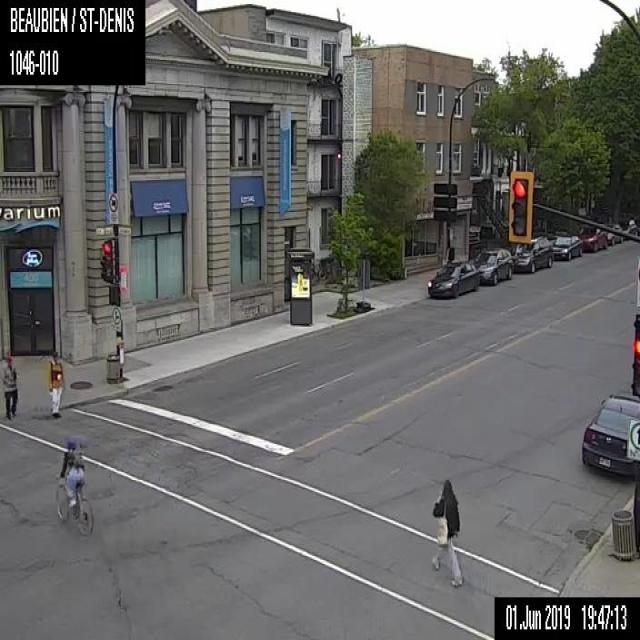cyclist: (55, 435, 93, 534)
pedestrian: (432, 479, 463, 586), (45, 352, 64, 416), (2, 356, 18, 418)
vehicle: (581, 393, 639, 480), (427, 261, 479, 298), (470, 247, 512, 285), (509, 235, 552, 272), (551, 233, 581, 260), (578, 224, 606, 251), (606, 223, 622, 244), (622, 218, 636, 240)
